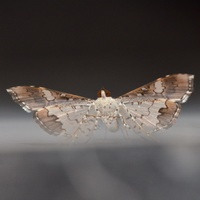insect: (6, 74, 193, 138)
